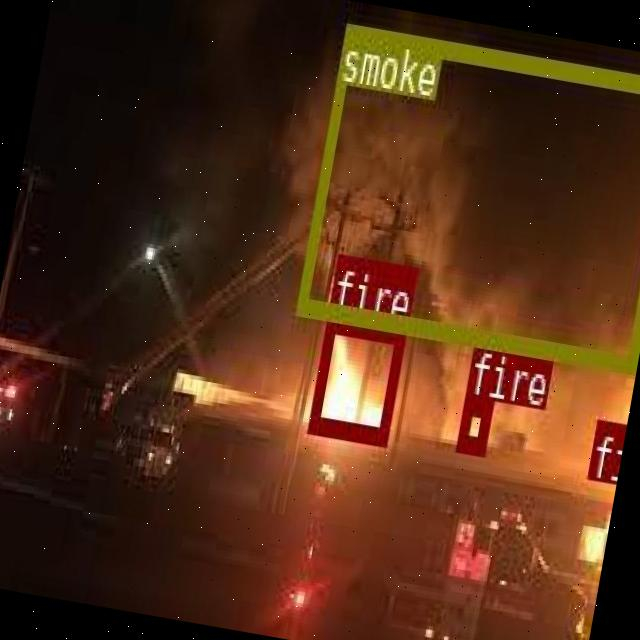fire: (306, 311, 404, 441), (456, 396, 492, 451), (588, 418, 622, 472)
smoke: (295, 21, 640, 367)
